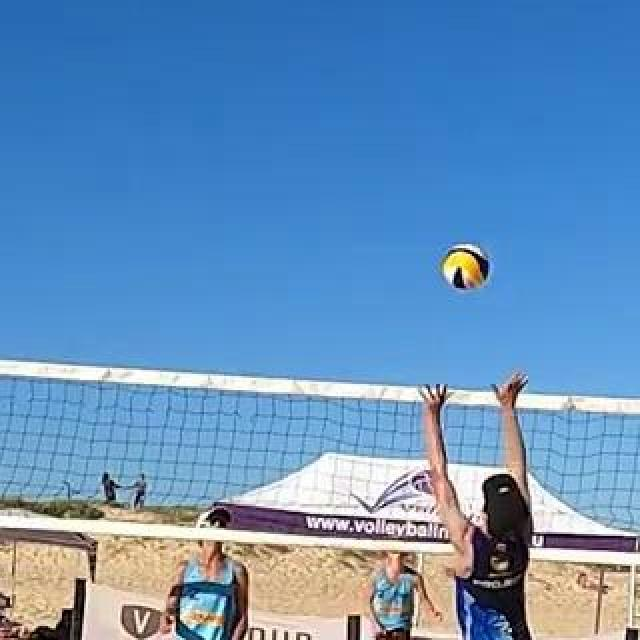volleyball: (443, 247, 489, 289)
